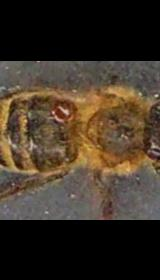varroa_mite: (44, 93, 80, 127)
